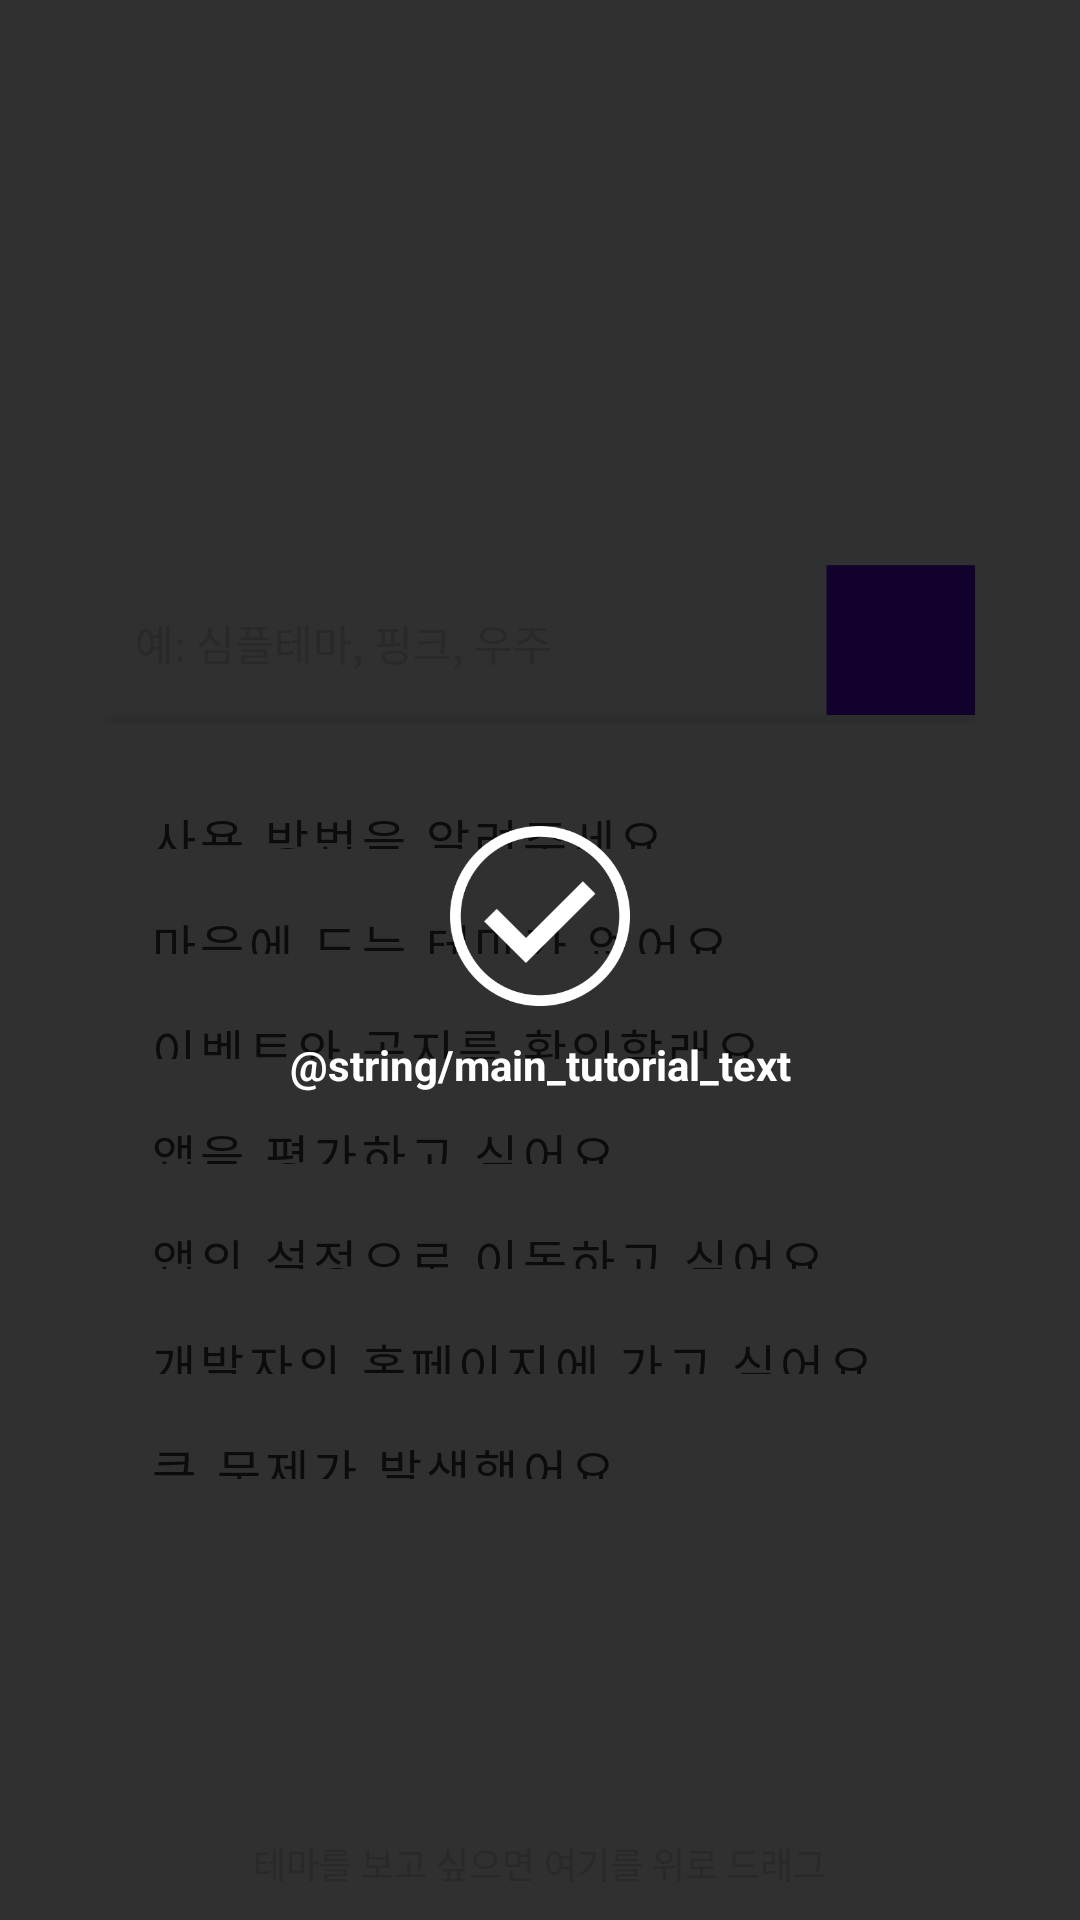

Named icons in this screenshot (1080px x 1920px) and their bounding boxes, BBox(x1, y1, x2, y2):
tutorial check: BBox(450, 826, 630, 1006)
